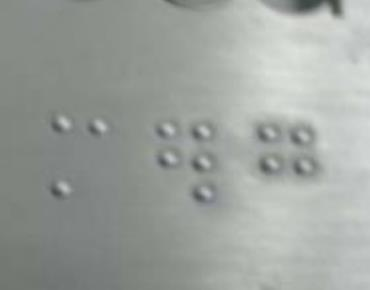Braille: (50, 112, 110, 200), (259, 125, 317, 214), (157, 119, 218, 203)
